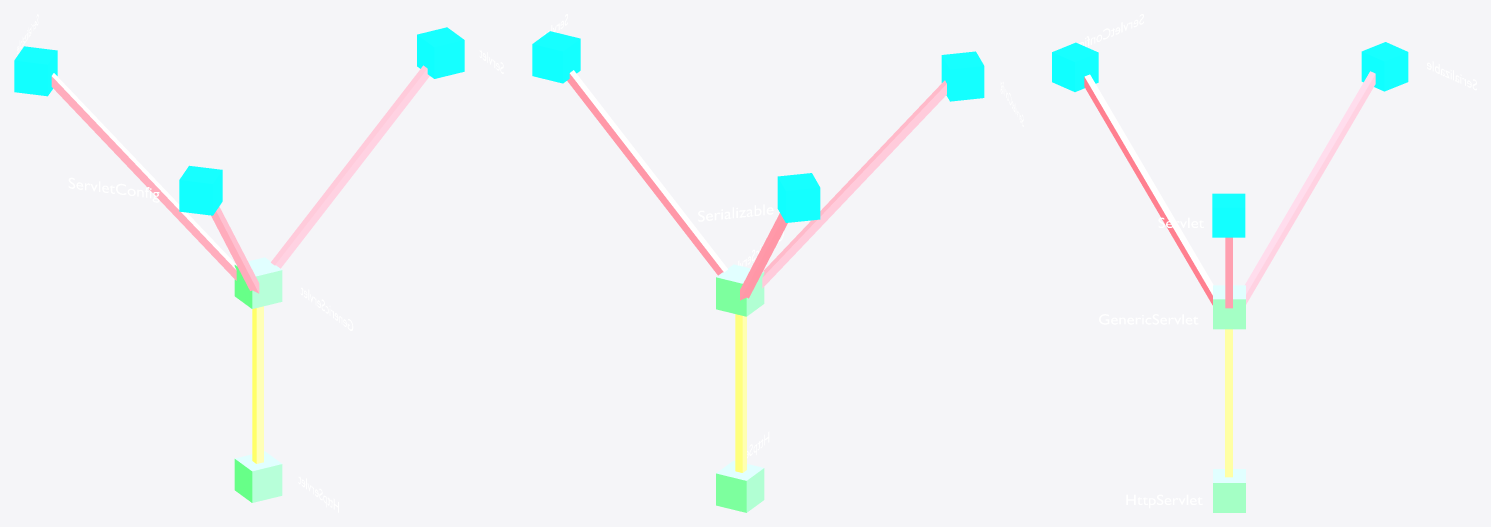
File: ServletHierarchy.glb
3 renders of one model, left to right at view 1: azimuth 30°, elevation 25°; view 2: azimuth 150°, elevation 25°; view 3: azimuth 270°, elevation 25°, orthographic. The views are drawn at different scales.
Parts seen in each view (by area): view 1: Cube.053, Cube.051, Servlet-Cube, GenericServlet-Cube.001, ServletConfig-Cube, Serializable-Cube, Cube.050, GenericServlet-Cube, Cube.052; view 2: Cube.052, Cube.051, Servlet-Cube, GenericServlet-Cube.001, Serializable-Cube, ServletConfig-Cube, Cube.050, GenericServlet-Cube, Cube.053; view 3: Cube.053, Cube.052, Serializable-Cube, ServletConfig-Cube, Servlet-Cube, GenericServlet-Cube.001, GenericServlet-Cube, Cube.050, Cube.051.
Boxes of the visible parts, box(x1,y1,x2,y2) form: Cube.053: box(51, 73, 236, 280); Cube.051: box(271, 65, 429, 268); Servlet-Cube: box(417, 27, 464, 78); GenericServlet-Cube.001: box(234, 451, 282, 502); ServletConfig-Cube: box(179, 165, 222, 215); Serializable-Cube: box(14, 46, 57, 96); Cube.050: box(252, 306, 263, 463); GenericServlet-Cube: box(234, 257, 282, 308); Cube.052: box(211, 206, 259, 293); Cube.052: box(762, 80, 946, 288); Cube.051: box(567, 70, 727, 275); Servlet-Cube: box(532, 31, 580, 83); GenericServlet-Cube.001: box(716, 460, 764, 512); Serializable-Cube: box(777, 173, 820, 222); ServletConfig-Cube: box(941, 51, 984, 101); Cube.050: box(735, 314, 746, 472); GenericServlet-Cube: box(716, 264, 764, 316); Cube.053: box(740, 213, 787, 300); Cube.053: box(1245, 71, 1375, 304); Cube.052: box(1084, 74, 1213, 305); Serializable-Cube: box(1361, 42, 1408, 91); ServletConfig-Cube: box(1052, 42, 1098, 91); Servlet-Cube: box(1212, 193, 1245, 237); GenericServlet-Cube.001: box(1213, 469, 1245, 512); GenericServlet-Cube: box(1213, 285, 1245, 329); Cube.050: box(1225, 329, 1232, 477); Cube.051: box(1225, 237, 1232, 308).
Size of the model in its own units: 105 by 93.23 by 92.19.
